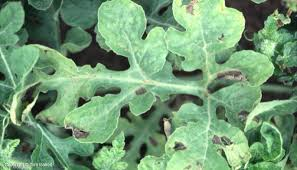Diseased_Leaves: (63, 119, 94, 143), (215, 70, 247, 83), (211, 132, 232, 149), (132, 88, 149, 96)
